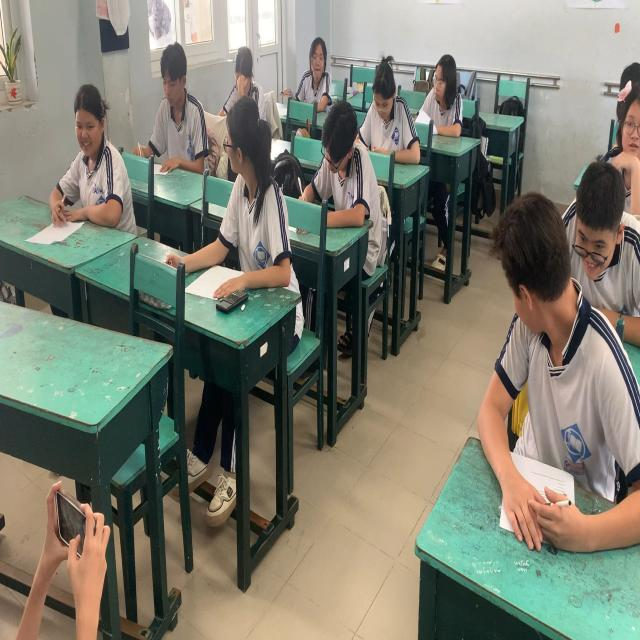cheating: (464, 209, 625, 551), (211, 102, 287, 294), (565, 160, 627, 284)
not_cheating: (56, 84, 132, 225), (153, 29, 209, 167), (310, 94, 366, 211), (365, 63, 419, 163), (422, 46, 466, 140), (292, 32, 332, 104), (227, 42, 264, 101)
